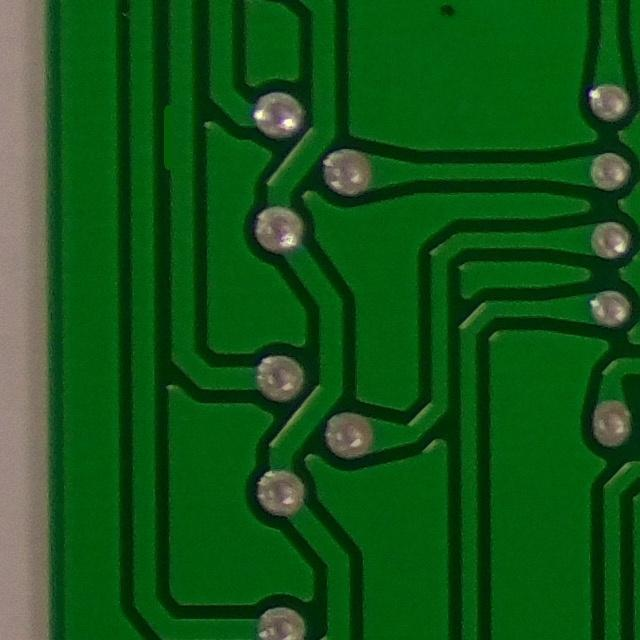spur: (152, 98, 194, 178)
